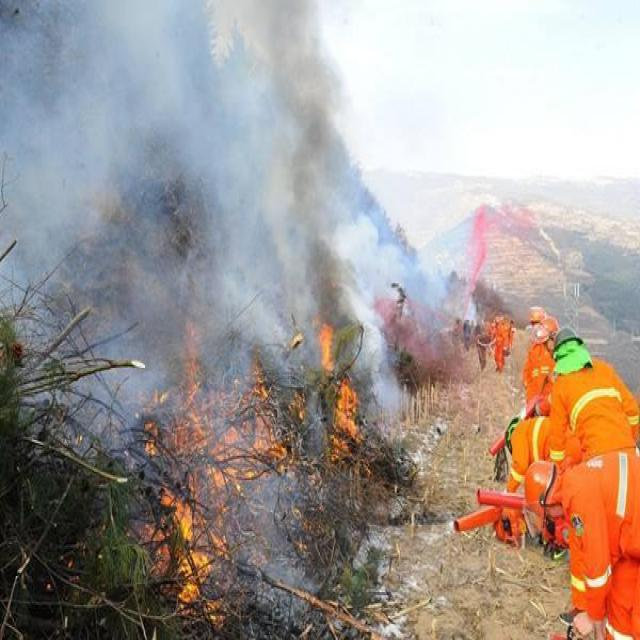fire: (142, 322, 288, 488), (155, 491, 223, 615), (328, 378, 360, 460), (316, 307, 333, 376)
other: (450, 304, 638, 630), (458, 196, 502, 294), (470, 302, 509, 367)
smoke: (143, 80, 271, 188), (254, 21, 334, 148), (287, 166, 343, 307), (353, 230, 391, 296), (366, 335, 396, 401)
